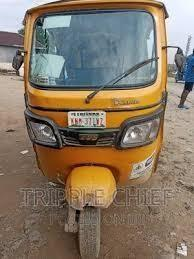keke: (21, 0, 170, 259)
